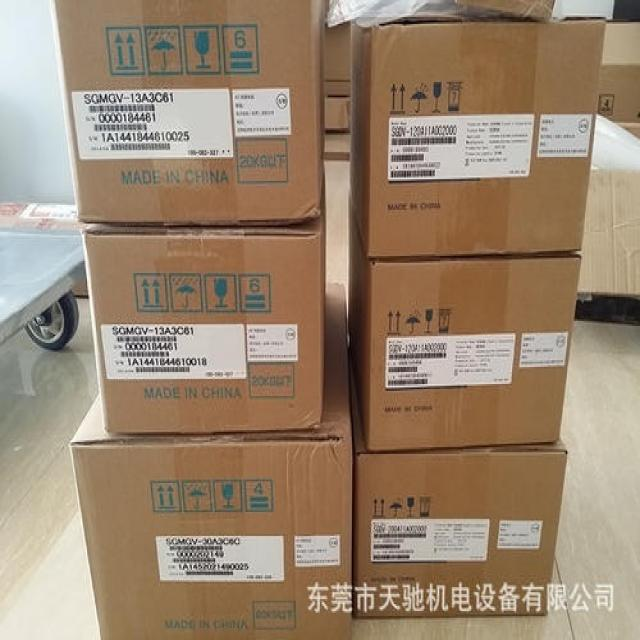box: (70, 283, 352, 640), (49, 0, 324, 227), (349, 17, 607, 256), (348, 193, 582, 452), (351, 367, 568, 620), (82, 210, 326, 435)
